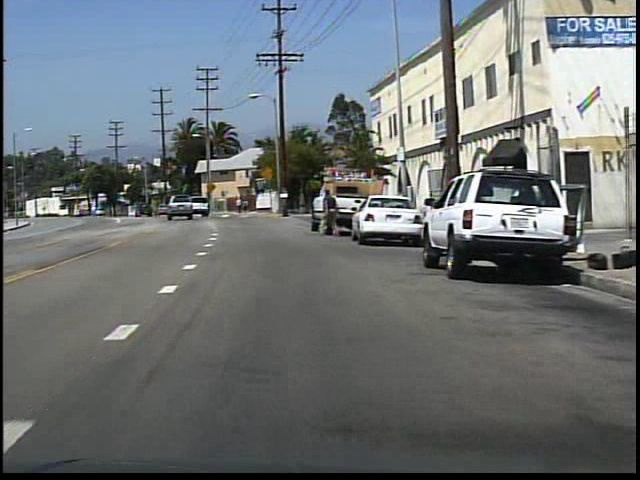person: (317, 185, 340, 241), (233, 196, 243, 217), (240, 197, 250, 215)
